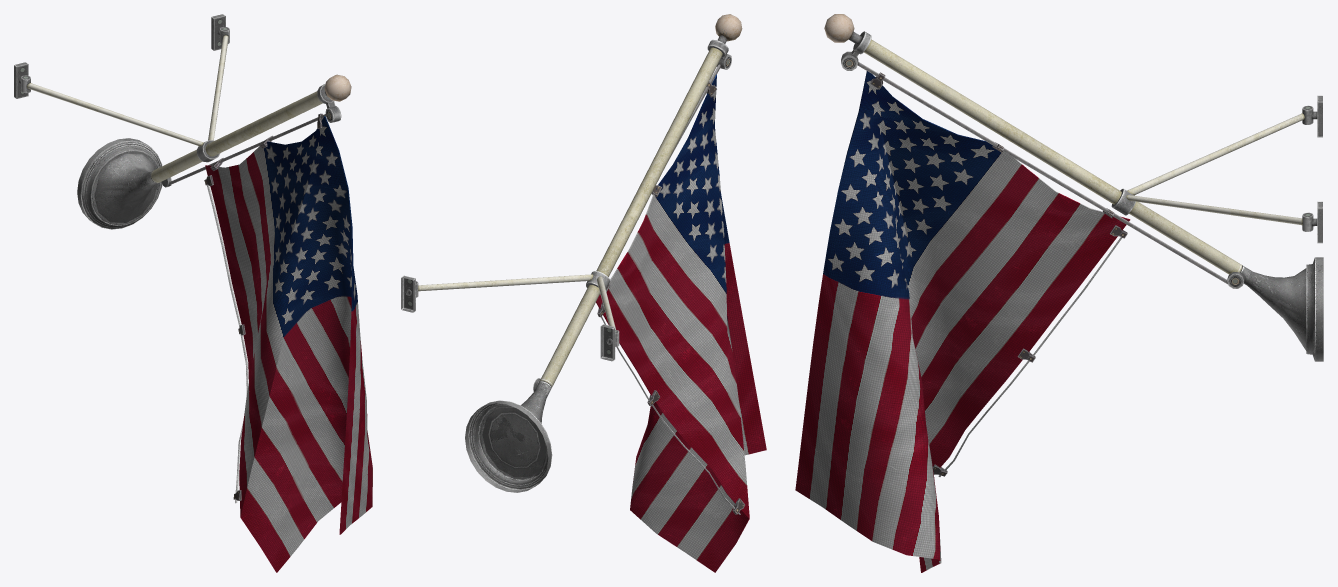
The model's file is Flag.fbx.
3 renders of one model, left to right at view 1: azimuth 30°, elevation 25°; view 2: azimuth 150°, elevation 25°; view 3: azimuth 270°, elevation 25°, orthographic. The views are drawn at different scales.
Visible parts, largest first — view 1: Flag_LOD0; view 2: Flag_LOD0; view 3: Flag_LOD0.
Boxes of the visible parts, bbox=[...] form: Flag_LOD0: bbox=[14, 14, 372, 572]; Flag_LOD0: bbox=[401, 14, 766, 572]; Flag_LOD0: bbox=[795, 14, 1323, 572].
Size of what is drawn, in the model's own units: 87.68 by 208 by 174.
